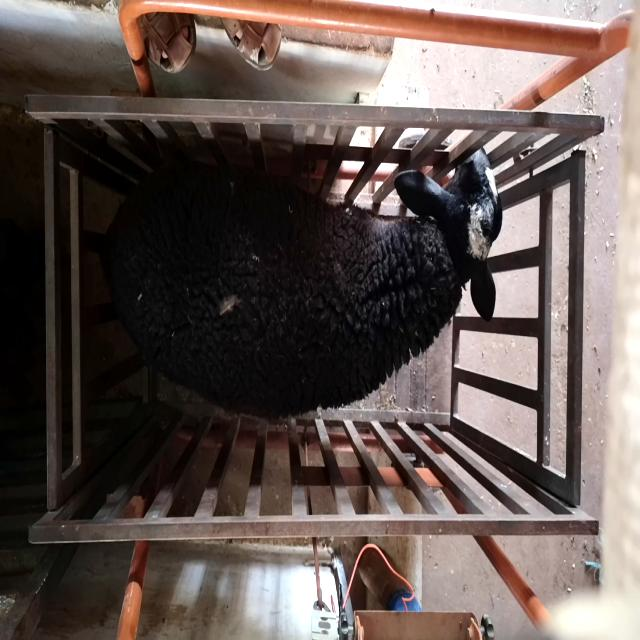sheep: (99, 147, 503, 420)
